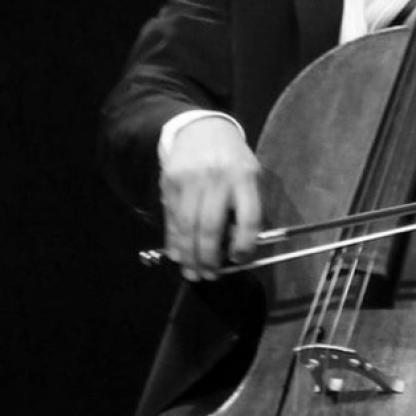good: (152, 150, 270, 288)
